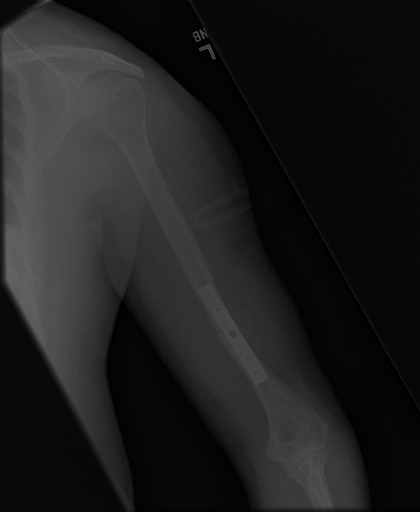implant: (195, 280, 269, 387)
